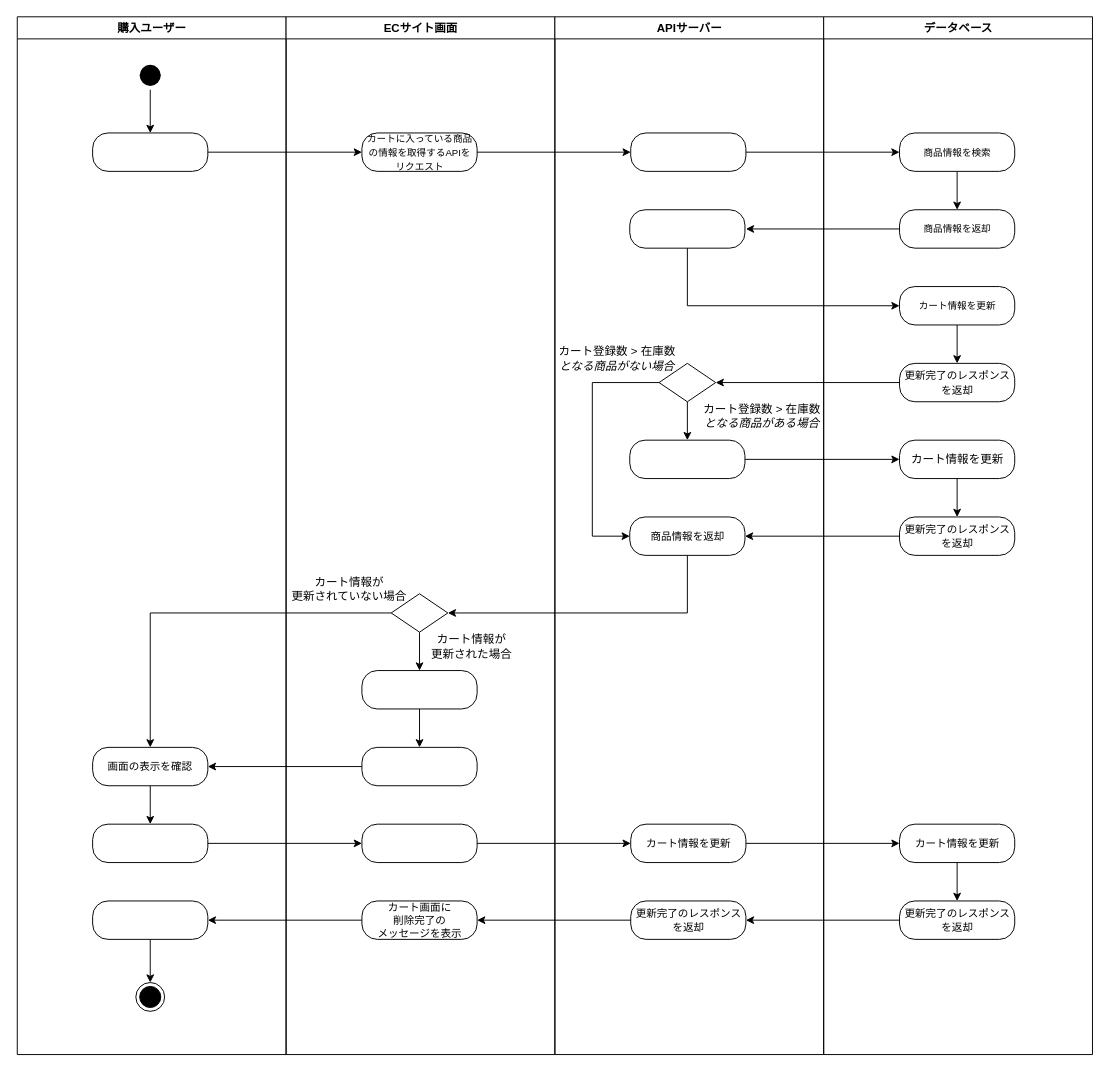
This 1109x1071 diagram has some shape labels left out. Each missing label, with the centre of its shape:
カート情報を変更・削除した メッセージを表示: [419,689]
カート情報を更新するAPIをリクエスト: [419,843]
カート画面にアクセス: [150,151]
カート画面の表示を更新: [419,766]
カート登録数を在庫の 最大数に更新: [687,459]
削除が完了したことを 確認: [150,919]
削除ボタンを押下: [150,843]
商品情報を取得: [688,151]
在庫が無い商品を カートから削除: [687,228]
